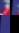potion: (0, 0, 10, 15)
sword: (10, 15, 19, 33)
